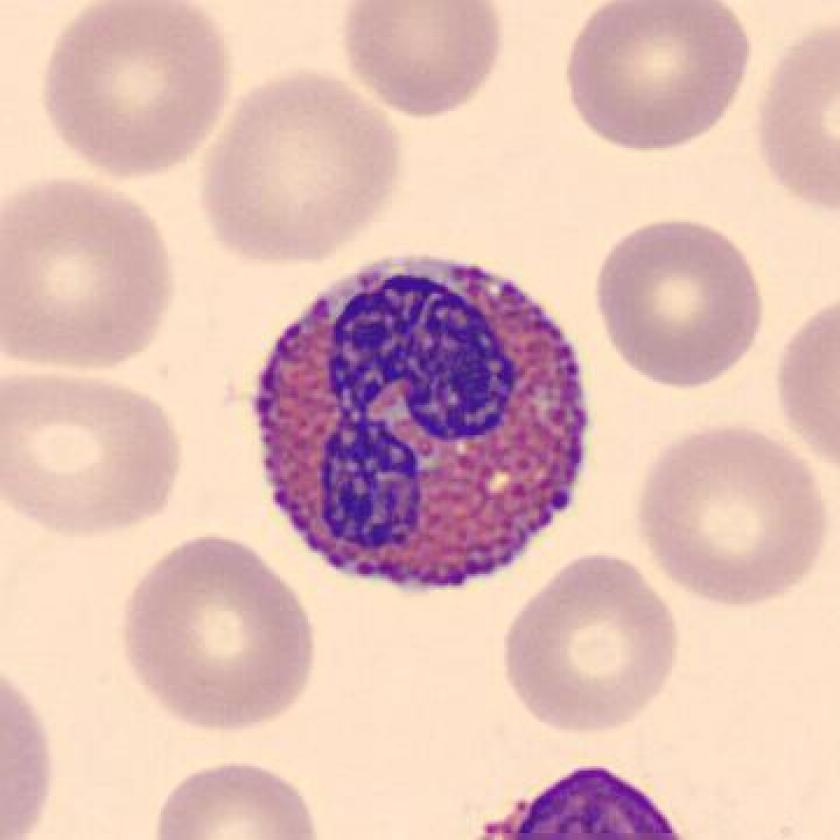eosinophil: (239, 240, 605, 615)
